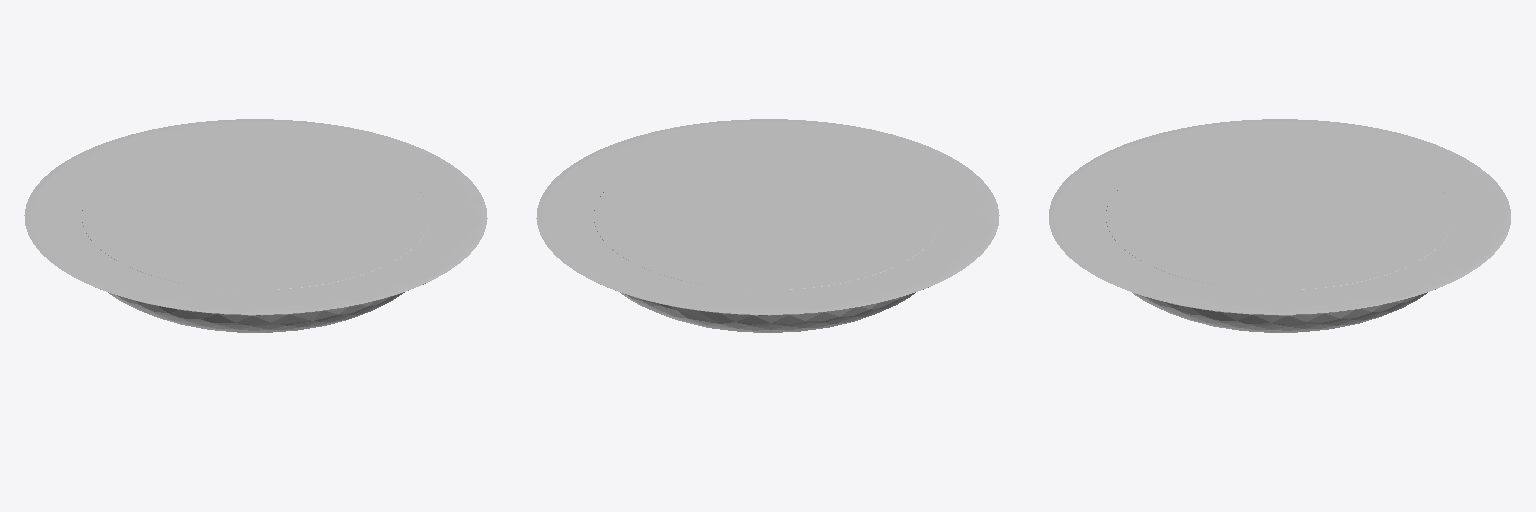
Rendered from ceiling_light.obj.
The picture shows the model from 3 angles: view 1: azimuth 30°, elevation 25°; view 2: azimuth 150°, elevation 25°; view 3: azimuth 270°, elevation 25°; orthographic projection.
Parts seen in each view (by area): view 1: Sphere01_1, Top_2; view 2: Sphere01_1, Top_2; view 3: Sphere01_1, Top_2.
Part boxes in pixels (bbox=[...]): Sphere01_1: bbox=[82, 143, 429, 332]; Top_2: bbox=[24, 119, 487, 314]; Sphere01_1: bbox=[594, 143, 941, 332]; Top_2: bbox=[536, 119, 999, 314]; Sphere01_1: bbox=[1106, 143, 1453, 332]; Top_2: bbox=[1049, 119, 1510, 314].
Size of the model in its own units: 231 by 43.5 by 231.